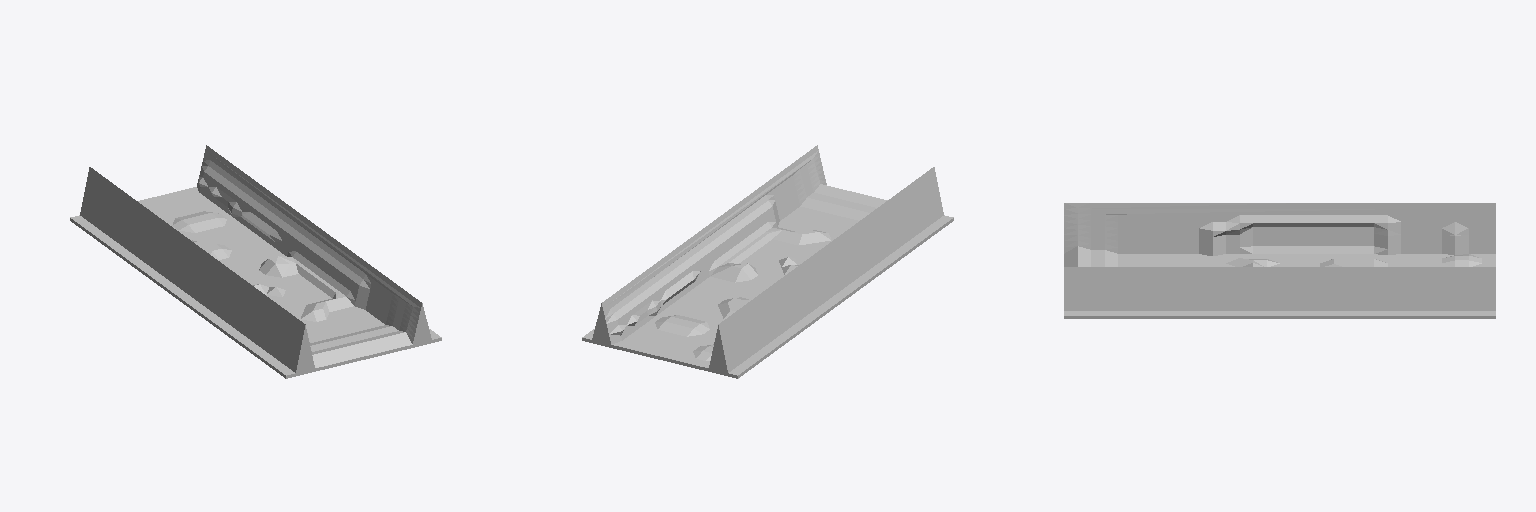
The model's file is newground.obj.
3 renders of one model, left to right at view 1: azimuth 30°, elevation 25°; view 2: azimuth 150°, elevation 25°; view 3: azimuth 270°, elevation 25°, orthographic.
Parts seen in each view (by area): view 1: Cube; view 2: Cube; view 3: Cube.
Boxes of the visible parts, x1=… form: Cube: x1=70, y1=145, x2=441, y2=378; Cube: x1=582, y1=145, x2=953, y2=378; Cube: x1=1064, y1=203, x2=1495, y2=318.
Size of the model in its own units: 100 by 30.49 by 240.